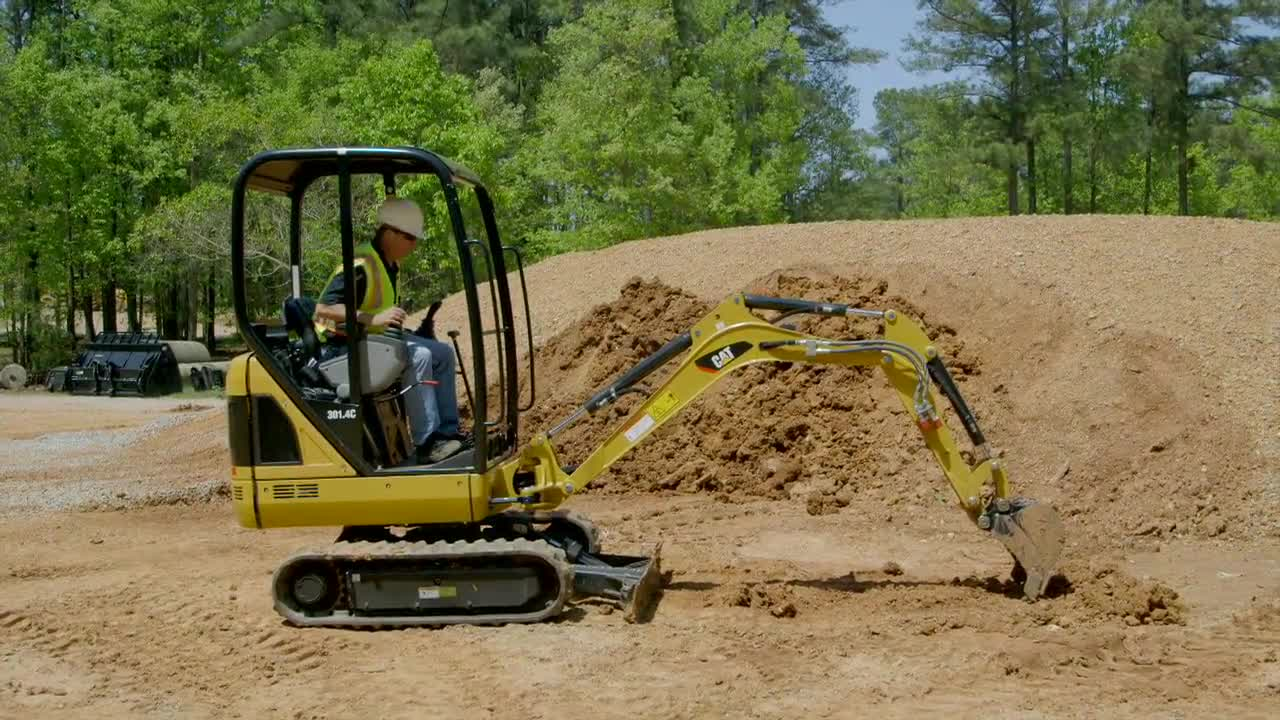attachment-bucket: (981, 491, 1071, 605)
cabin: (218, 147, 534, 523)
forearm: (883, 307, 1003, 512)
upperarm: (569, 322, 897, 500)
wheelbase: (260, 507, 596, 621)
